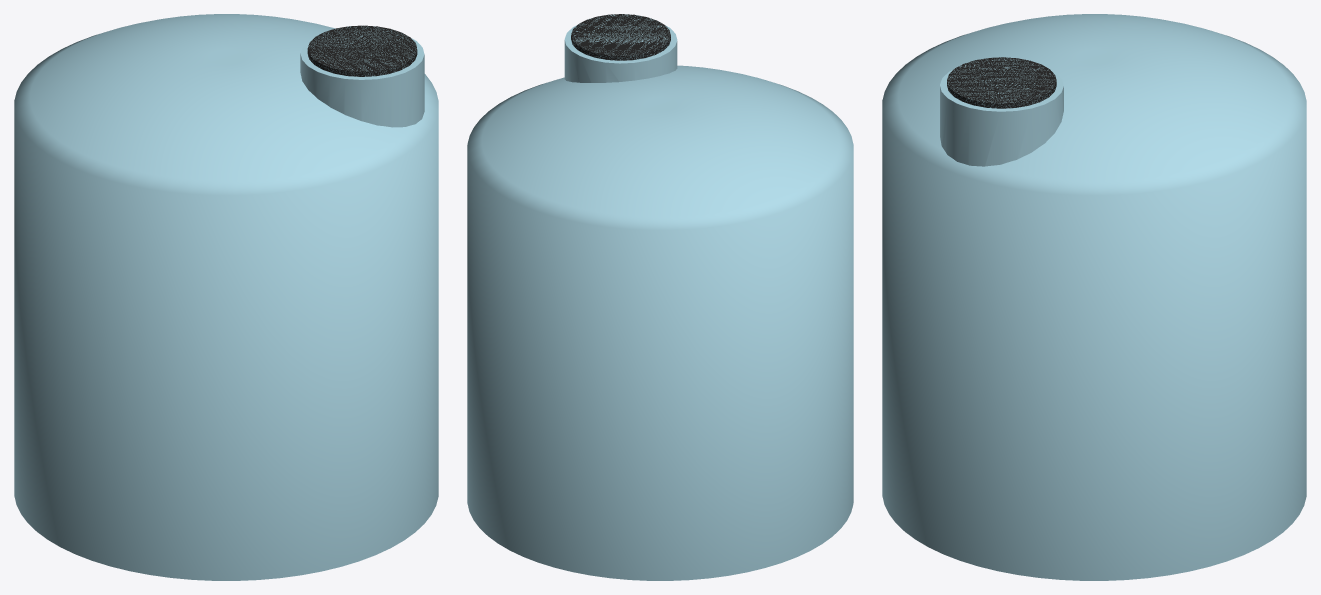
File: water_tank.dae
The picture shows the model from 3 angles, left to right: view 1: azimuth 30°, elevation 25°; view 2: azimuth 150°, elevation 25°; view 3: azimuth 270°, elevation 25°; orthographic projection. The views are drawn at different scales.
Parts seen in each view (by area): view 1: group_1, group_2, group_3; view 2: group_1, group_3, group_2; view 3: group_1, group_2, group_3.
Boxes of the visible parts, bbox=[...] form: group_1: bbox=[14, 14, 438, 580]; group_2: bbox=[300, 38, 424, 127]; group_3: bbox=[307, 25, 417, 76]; group_1: bbox=[467, 65, 853, 580]; group_3: bbox=[571, 14, 670, 60]; group_2: bbox=[564, 25, 677, 82]; group_1: bbox=[882, 14, 1306, 580]; group_2: bbox=[940, 69, 1063, 166]; group_3: bbox=[947, 57, 1056, 108].
Size of the model in its own units: 95.8 by 95.8 by 113.
